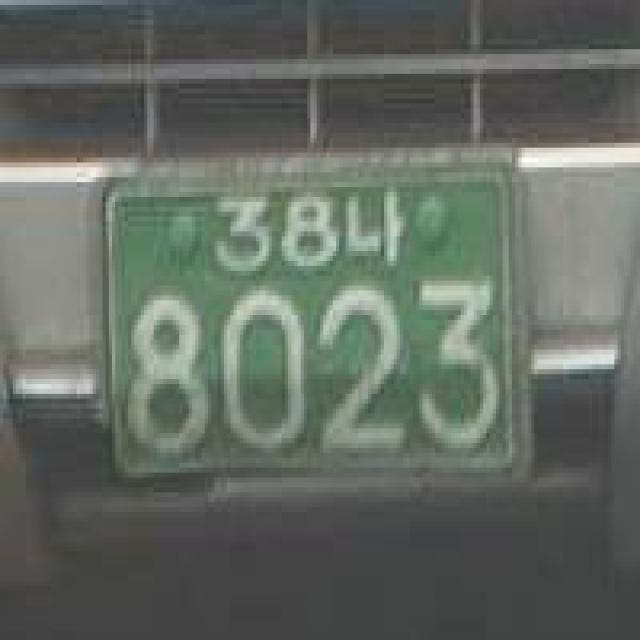illegal_plate: (85, 155, 540, 520)
